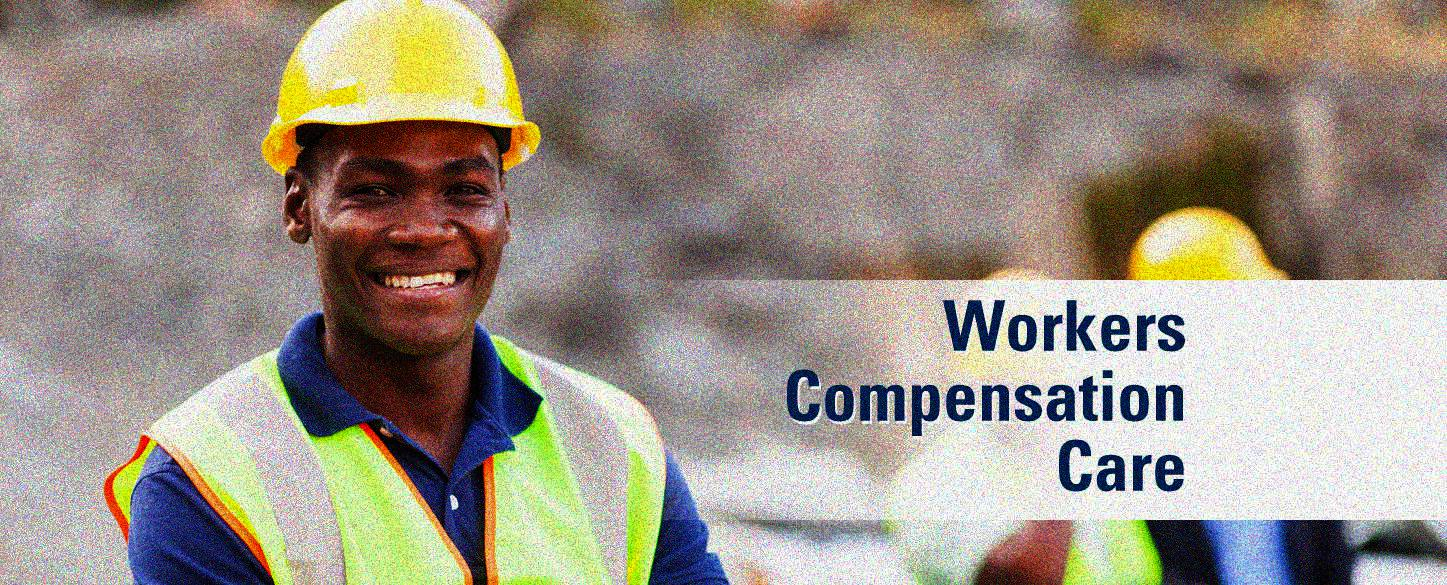helmet: (258, 1, 538, 353)
